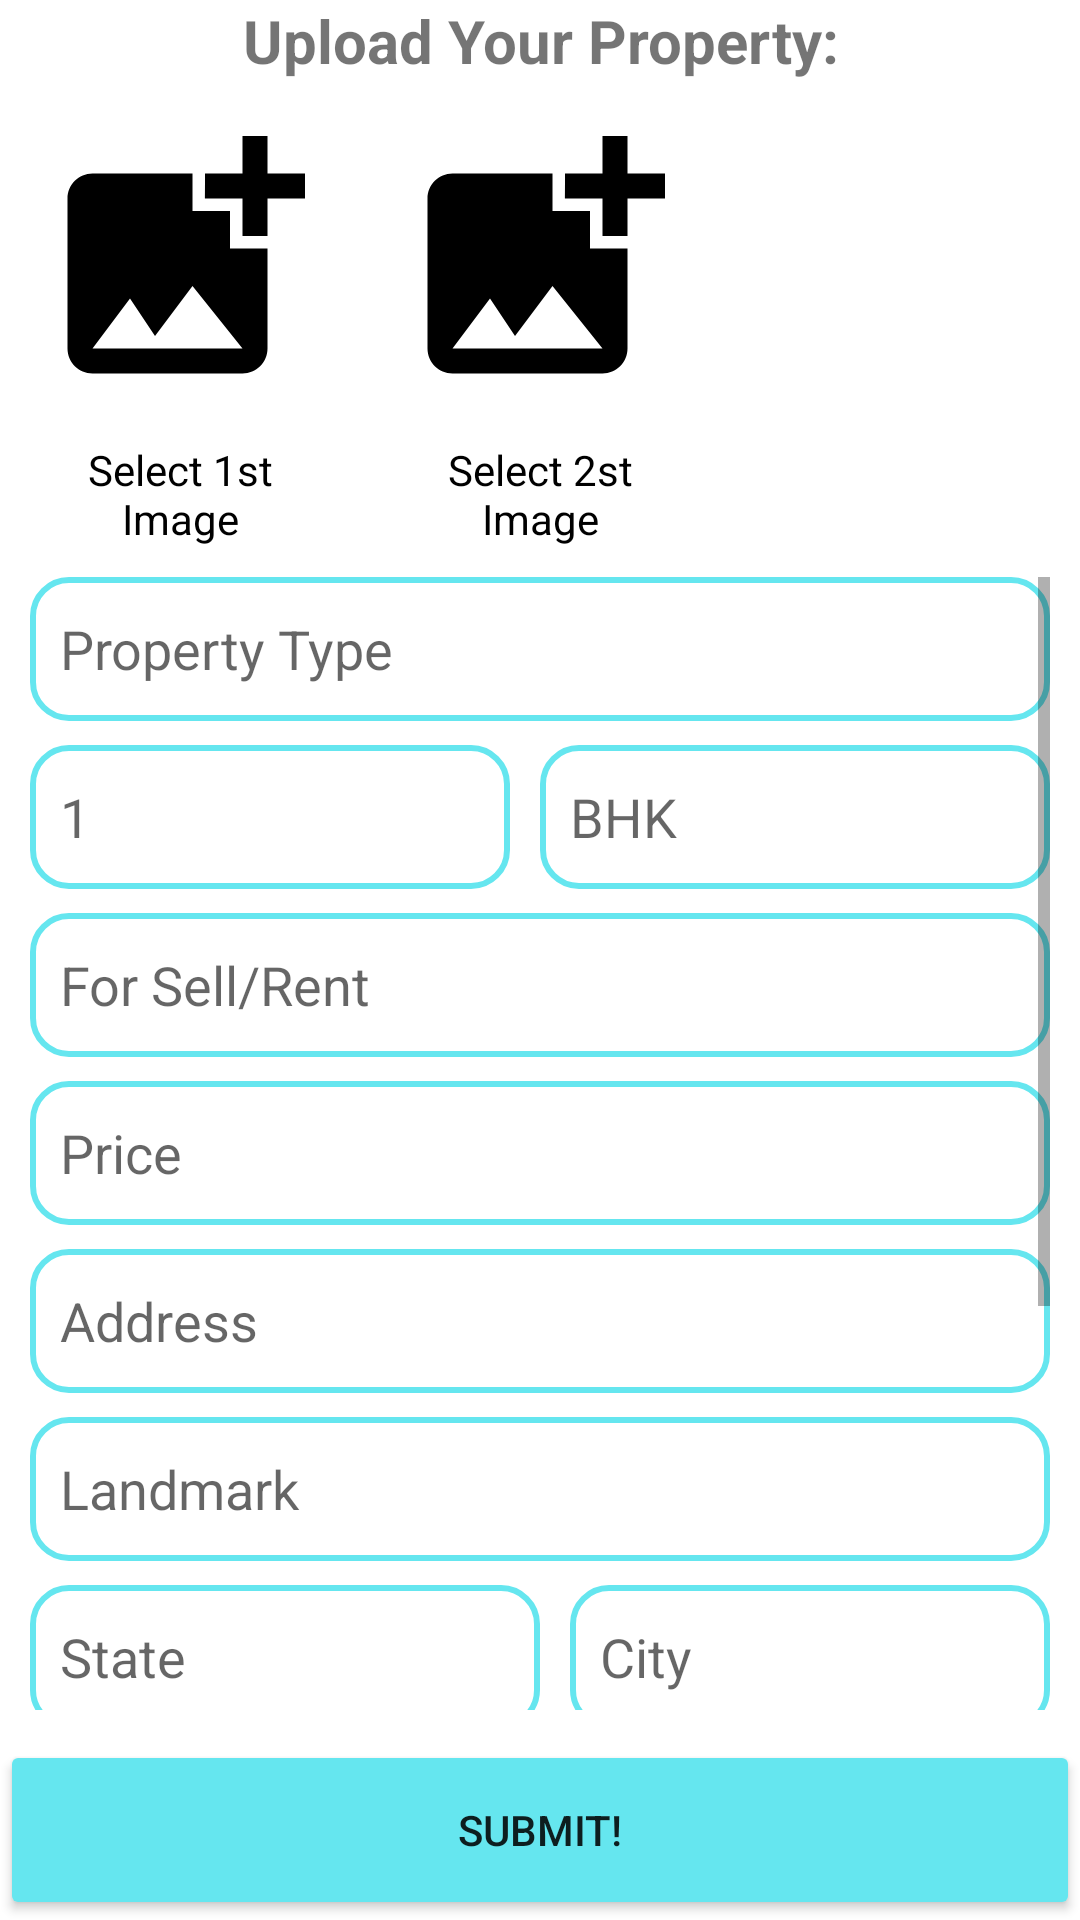

Icon click points for this 1080*1920 phone screenshot, format (x=x, y=y):
add photo alternate: (x=186, y=255), (x=546, y=255)
